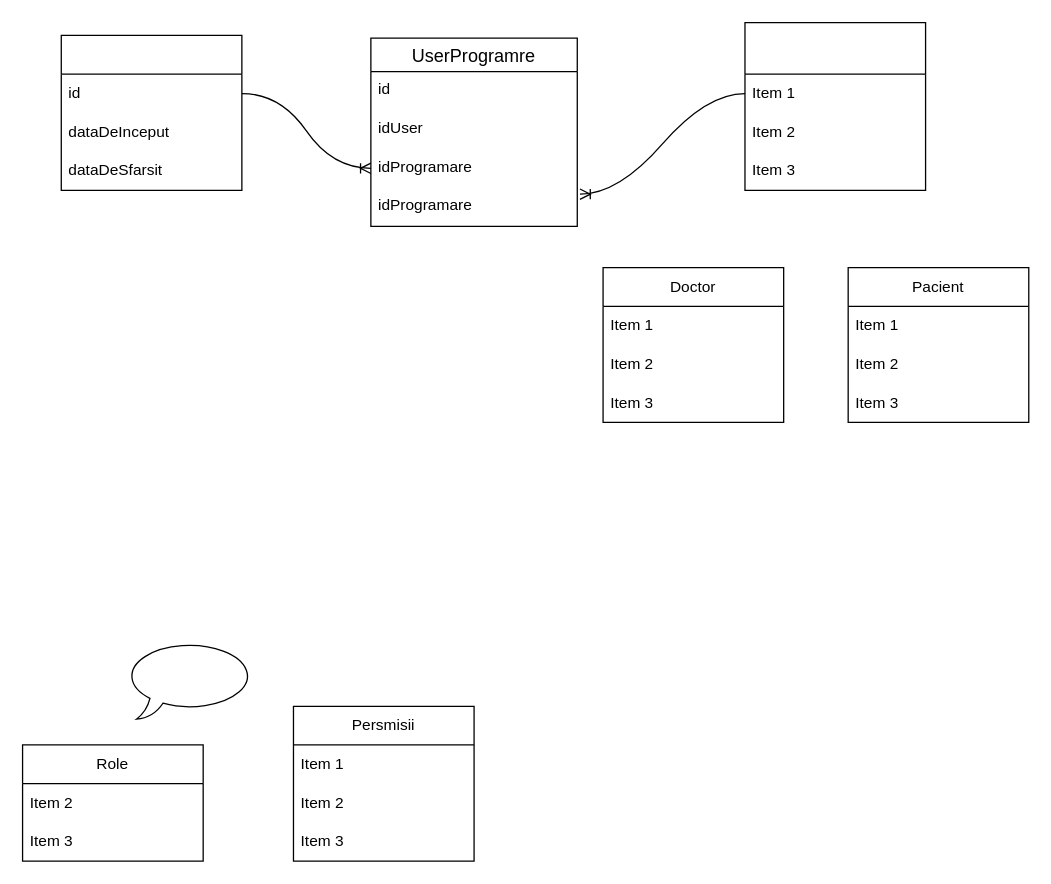
This 1051x884 diagram has some shape labels left out. Here are the shapes that lost their labels. From the top down, the box of each, then its label:
(60, 34, 242, 190): Programare
(744, 21, 926, 190): User
(124, 640, 255, 719): Enum
